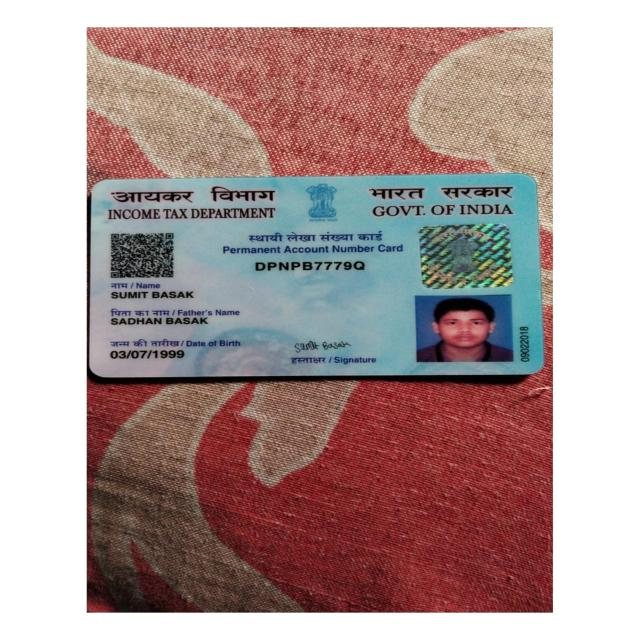pan_card: (86, 169, 539, 378)
